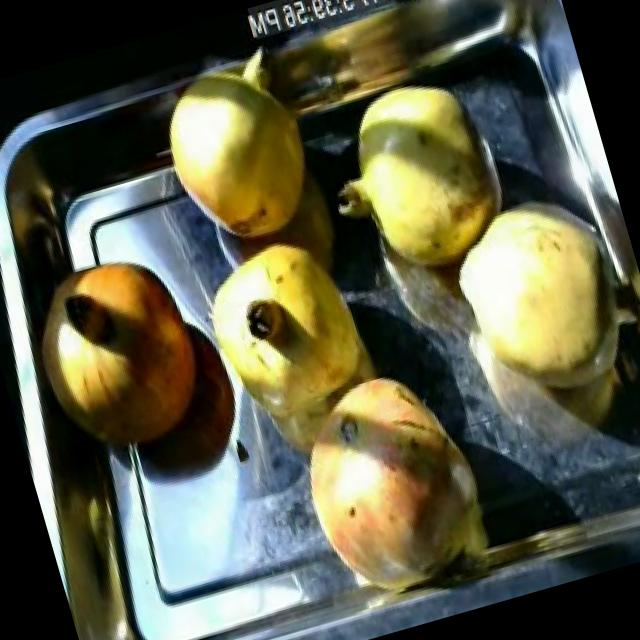fruit: (264, 344, 508, 619), (418, 163, 640, 433), (303, 57, 536, 306), (8, 230, 233, 478), (181, 218, 391, 452), (144, 44, 336, 265)
